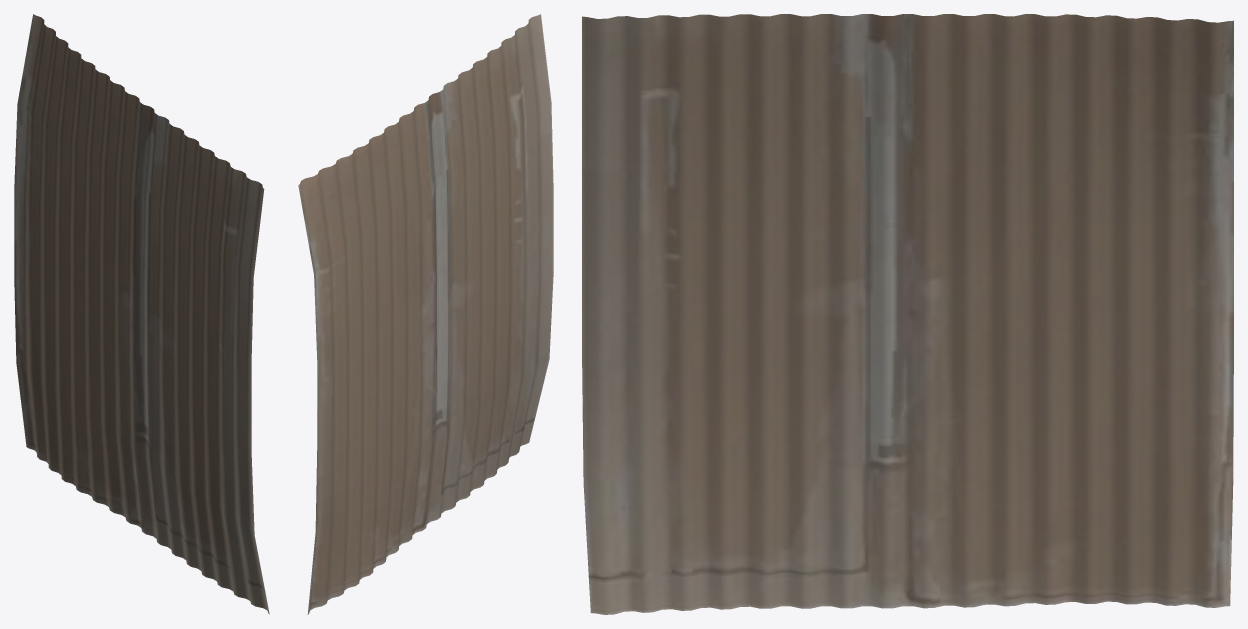
The picture shows the model from 3 angles, left to right: view 1: azimuth 30°, elevation 25°; view 2: azimuth 150°, elevation 25°; view 3: azimuth 270°, elevation 25°; orthographic projection. The views are drawn at different scales.
Parts seen in each view (by area): view 1: body0_model0_lod0_mesh0; view 2: body0_model0_lod0_mesh0; view 3: body0_model0_lod0_mesh0.
Part boxes in pixels (box(x1,y1,x2,y2)): body0_model0_lod0_mesh0: box(14, 14, 269, 614); body0_model0_lod0_mesh0: box(298, 14, 553, 614); body0_model0_lod0_mesh0: box(582, 14, 1233, 614).
Bounding box in the file's own units: 7.52 × 128 × 128.
1 material, 1 textured.
